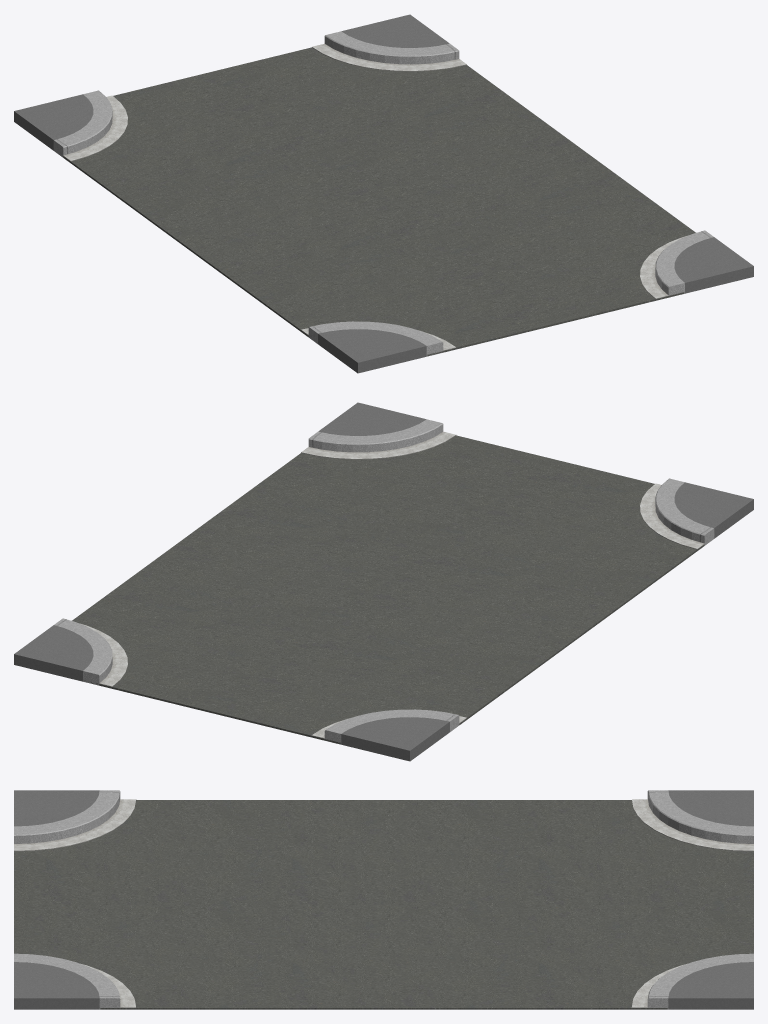
Rendered from croisement1et2.obj.
3 renders of one model, top to bottom at view 1: azimuth 30°, elevation 25°; view 2: azimuth 150°, elevation 25°; view 3: azimuth 270°, elevation 25°, orthographic. The views are drawn at different scales.
Visible parts, largest first — view 1: croisement1et2_Plane.028; view 2: croisement1et2_Plane.028; view 3: croisement1et2_Plane.028.
Part boxes in pixels (left/top/right/bottom): croisement1et2_Plane.028: left=14, top=14, right=753, bottom=373; croisement1et2_Plane.028: left=14, top=402, right=753, bottom=761; croisement1et2_Plane.028: left=14, top=790, right=753, bottom=1009.
Size of the model in its own units: 695 by 18 by 1045.
13 materials, 13 textured.
